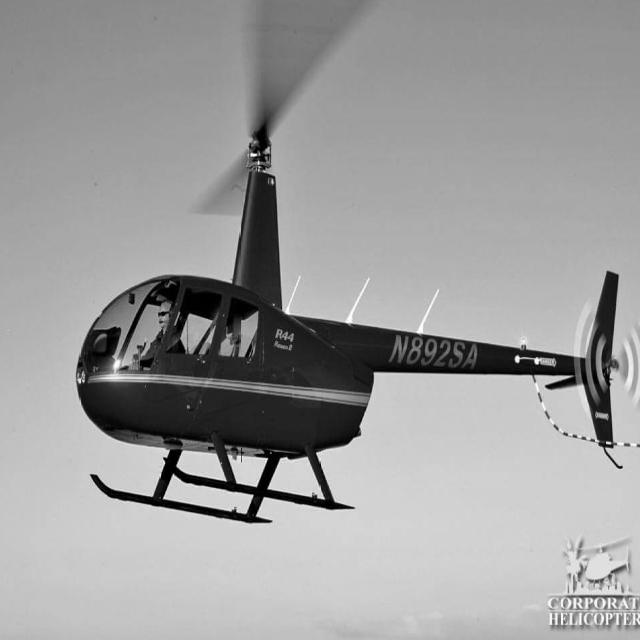helicopter: (75, 1, 640, 547)
